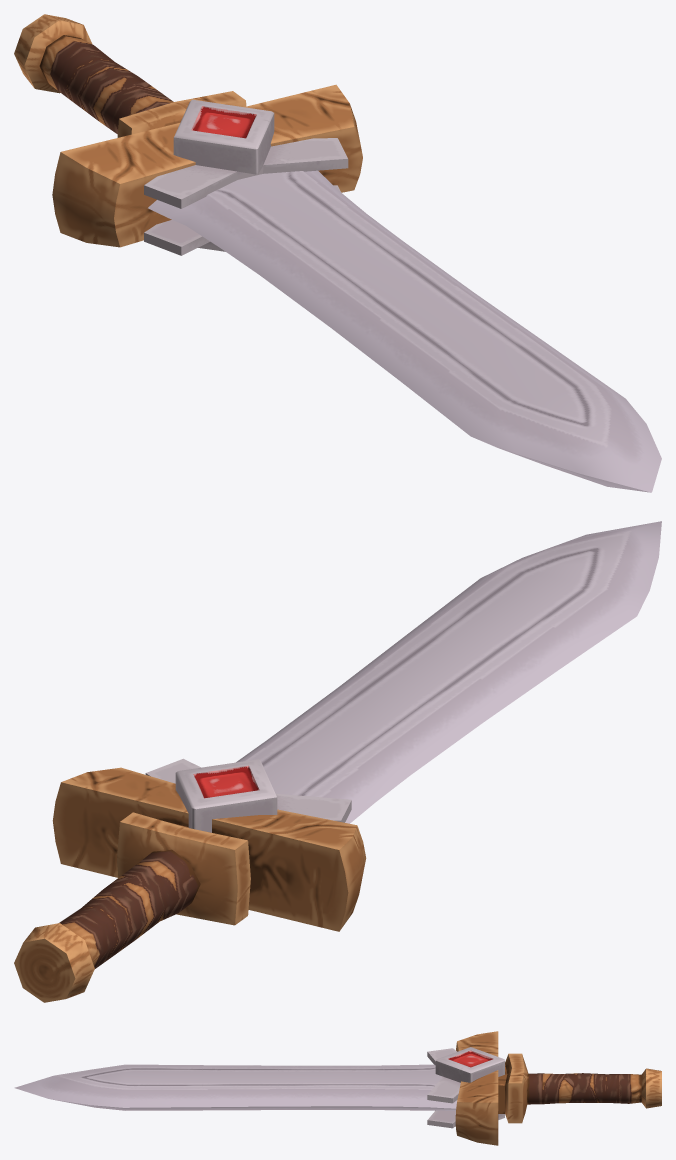
File: sword.fbx
The picture shows the model from 3 angles, top to bottom: view 1: azimuth 30°, elevation 25°; view 2: azimuth 150°, elevation 25°; view 3: azimuth 270°, elevation 25°; orthographic projection. The views are drawn at different scales.
Visible parts, largest first — view 1: Sword; view 2: Sword; view 3: Sword.
Part boxes in pixels (bbox=[...]): Sword: bbox=[14, 14, 661, 492]; Sword: bbox=[14, 521, 661, 1002]; Sword: bbox=[14, 1031, 661, 1145].
Size of the model in its own units: 112 by 40.08 by 402.
